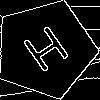H: (20, 24, 78, 82)
